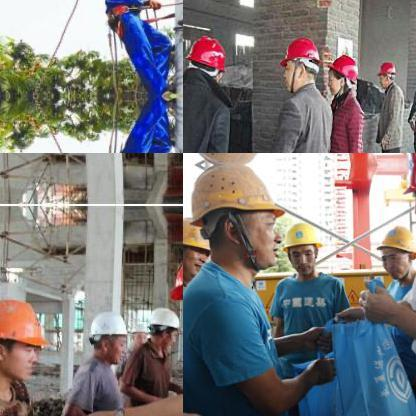Helmet: (185, 166, 287, 266), (0, 295, 45, 376), (370, 216, 415, 279), (277, 218, 325, 274), (276, 31, 320, 89), (85, 306, 129, 361), (183, 207, 215, 282), (183, 30, 224, 81), (146, 306, 180, 348), (331, 50, 355, 92), (130, 318, 148, 350), (376, 58, 394, 82)
